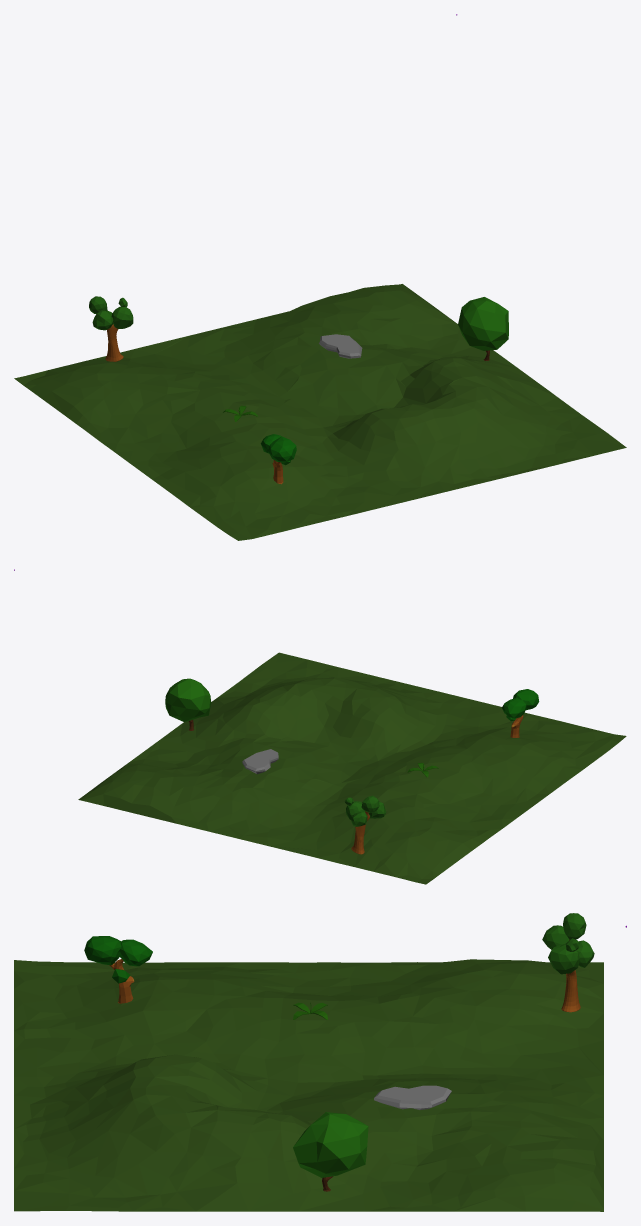
File: Terrain_with_objects.fbx
3 renders of one model, top to bottom at view 1: azimuth 30°, elevation 25°; view 2: azimuth 150°, elevation 25°; view 3: azimuth 270°, elevation 25°, orthographic. The views are drawn at different scales.
Visible parts, largest first — view 1: node_id4, node_id74, node_id146; view 2: node_id4, node_id74, node_id146; view 3: node_id4, node_id74, node_id146, node_id41, node_id97, node_id43, node_id86, node_id93, node_id95, node_id47.
Boxes of the visible parts, box(x1,y1,x2,y2) form: node_id4: box(14, 284, 626, 540); node_id74: box(458, 297, 508, 350); node_id146: box(319, 334, 362, 358); node_id4: box(78, 652, 626, 884); node_id74: box(165, 678, 211, 721); node_id146: box(242, 749, 278, 774); node_id4: box(14, 959, 603, 1211); node_id74: box(293, 1112, 368, 1177); node_id146: box(374, 1085, 451, 1109); node_id41: box(84, 936, 121, 965); node_id97: box(548, 944, 579, 974); node_id43: box(119, 939, 152, 966); node_id86: box(561, 940, 580, 1012); node_id93: box(563, 913, 586, 939); node_id95: box(542, 925, 569, 949); node_id47: box(109, 959, 134, 1003).
Size of the model in its own units: 0.5949 by 0.3137 by 0.5317.
